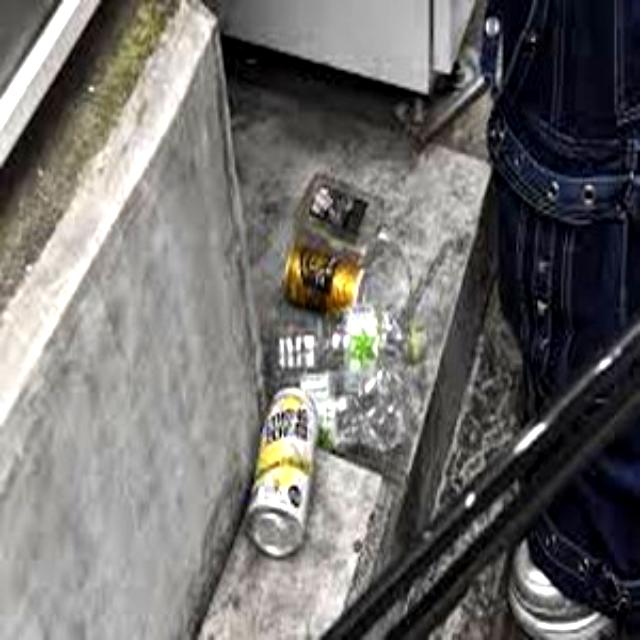Metal: (242, 385, 322, 557), (277, 240, 378, 314)
